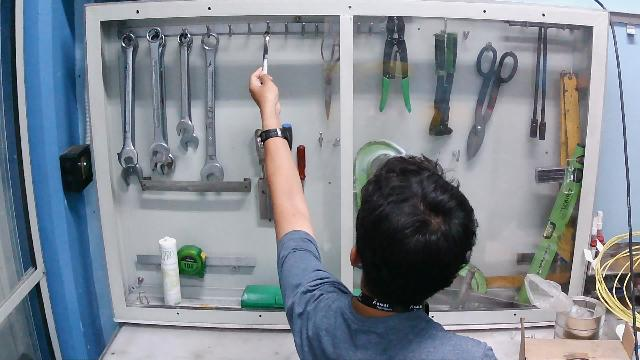kunci_pass_13: (243, 22, 291, 105)
